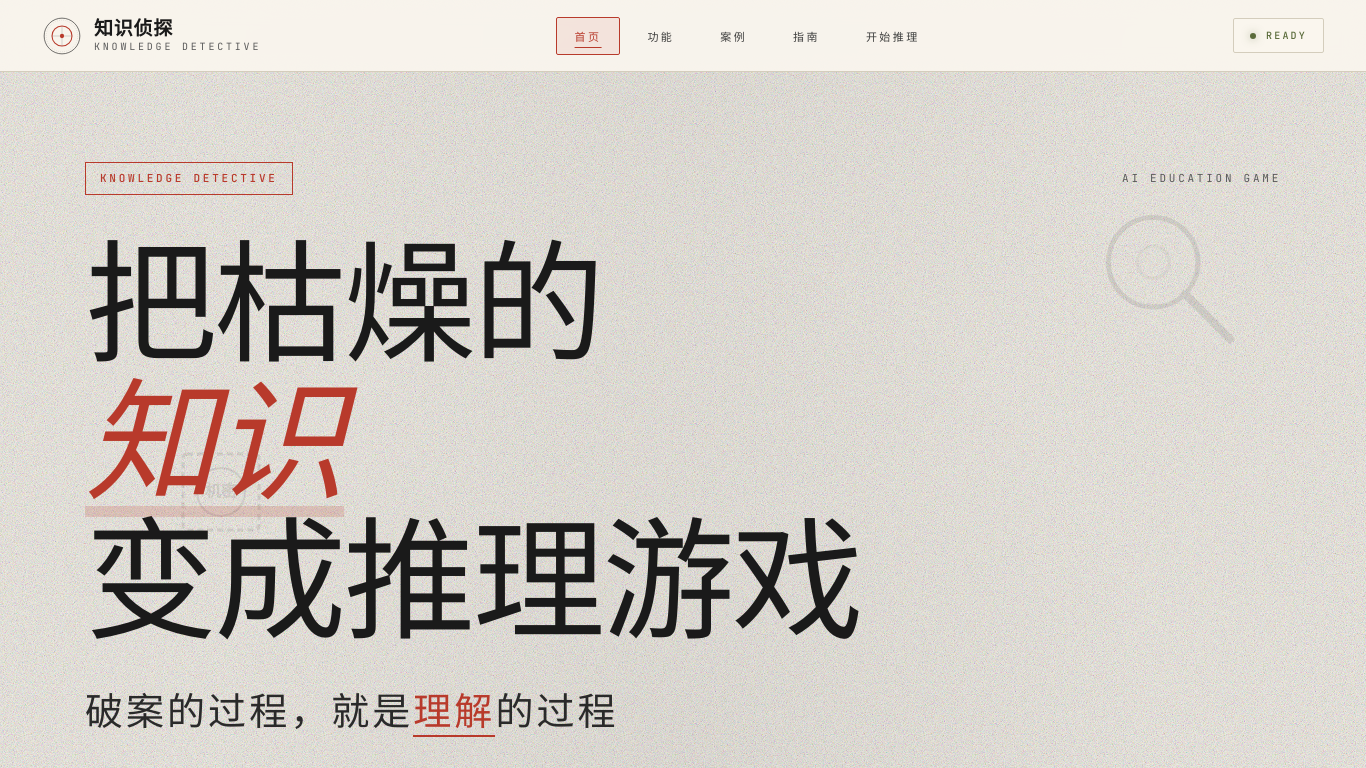
Scenario: App 组件 › 点击导航可切换到功能页
Click the button "功能" at {"x": 661, "y": 36}, box [628,16,693,54]
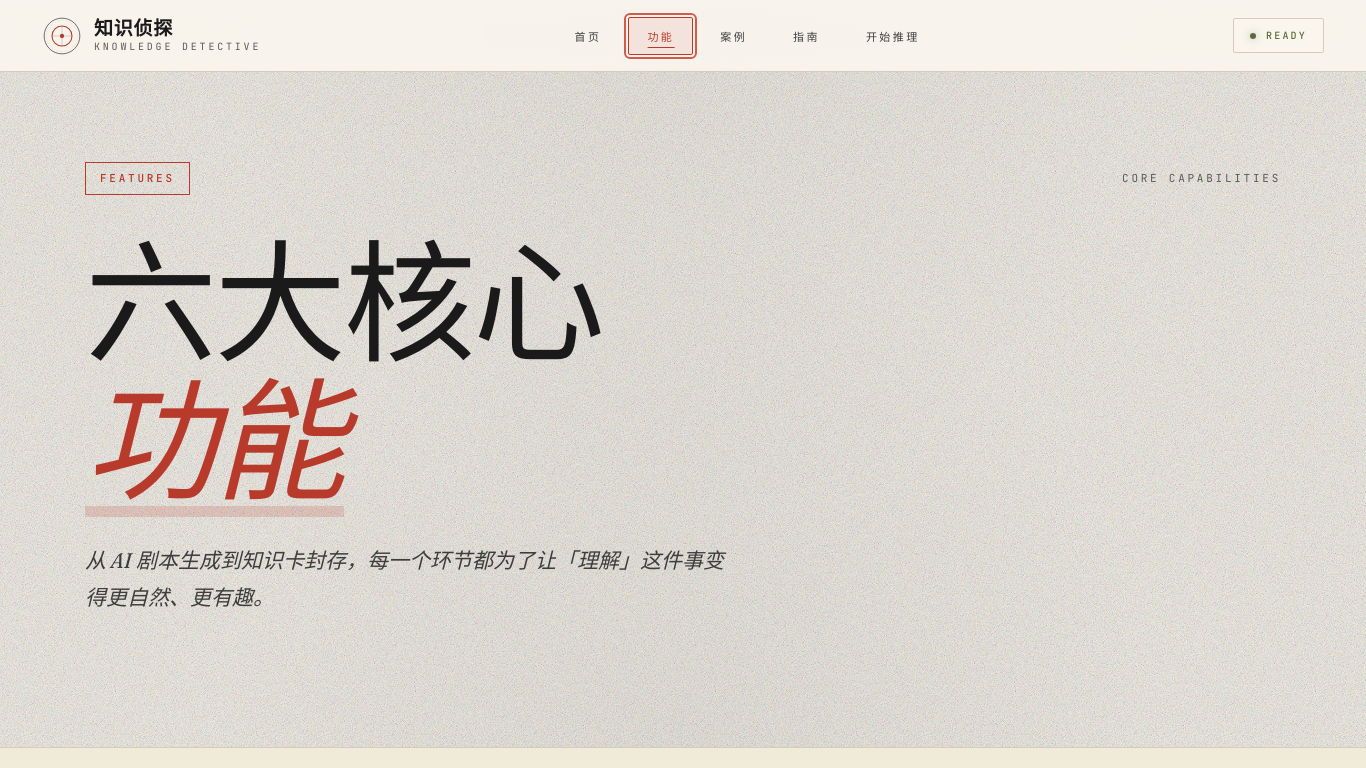
Expected: the heading "六大核心 功能" is shown, [85,222,602,523]
